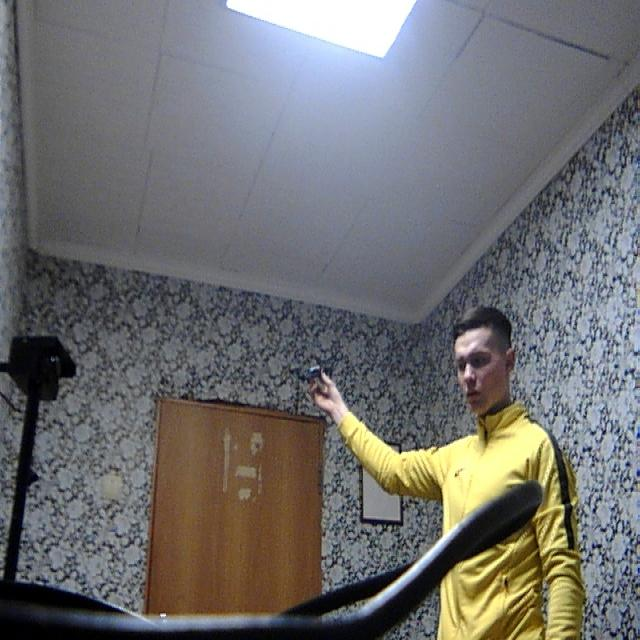drone: (285, 354, 349, 387)
